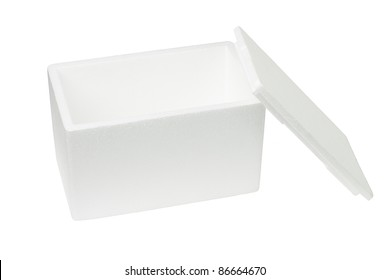Foam Box: (44, 24, 377, 223)
